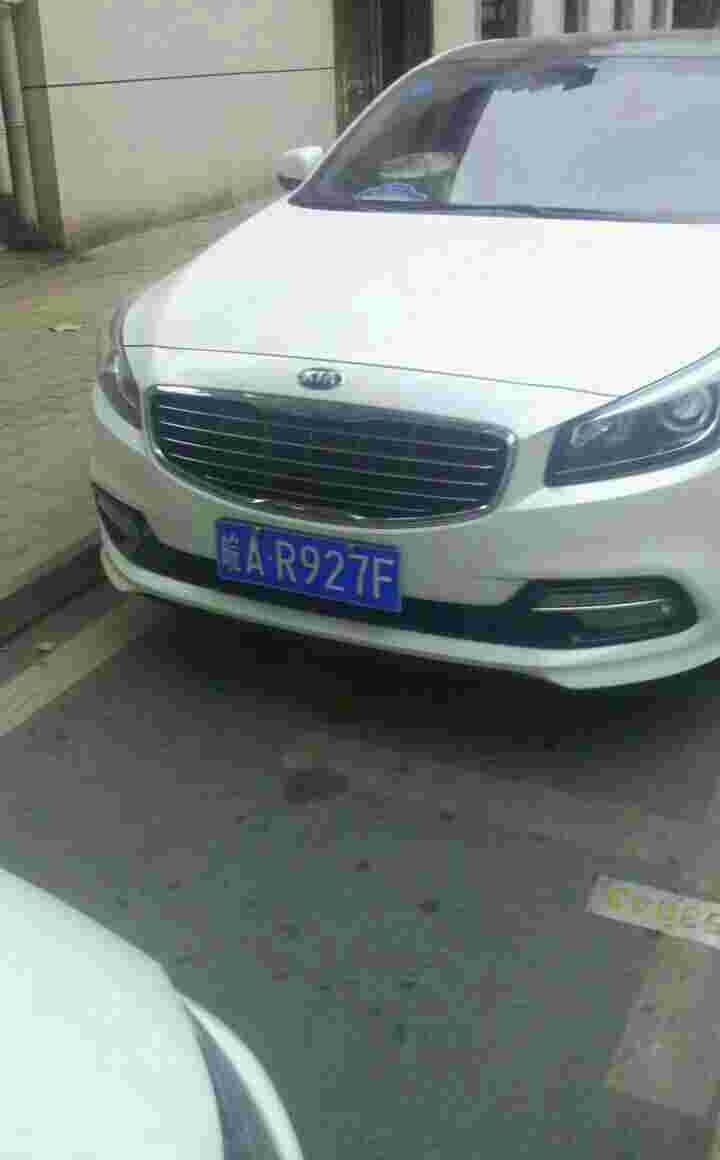license_plate: (217, 521, 411, 620)
